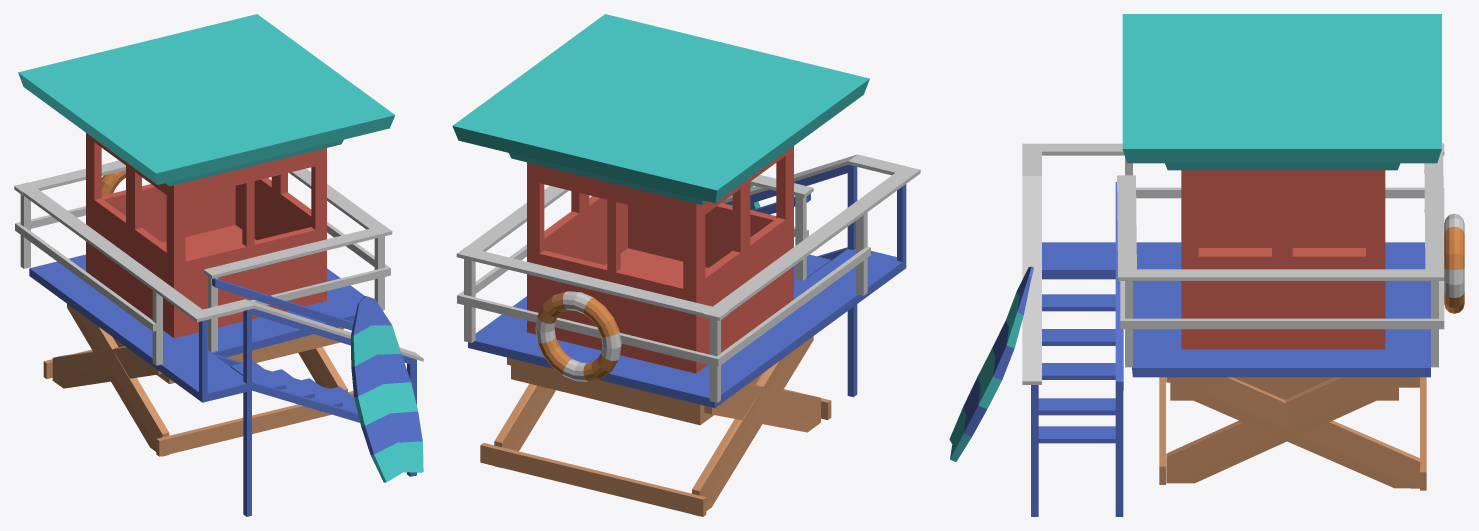
Rendered from nha.fbx.
3 renders of one model, left to right at view 1: azimuth 30°, elevation 25°; view 2: azimuth 150°, elevation 25°; view 3: azimuth 270°, elevation 25°, orthographic. The views are drawn at different scales.
Visible parts, largest first — view 1: CABIN.001, SURFBOARD.001; view 2: CABIN.001; view 3: CABIN.001, SURFBOARD.001.
Part boxes in pixels (box(x1,y1,x2,y2)): CABIN.001: box(14, 14, 423, 516); SURFBOARD.001: box(350, 296, 423, 482); CABIN.001: box(452, 14, 920, 516); CABIN.001: box(1022, 14, 1464, 516); SURFBOARD.001: box(949, 266, 1033, 461).
Bounding box in the file's own units: 291 × 375 × 463.
